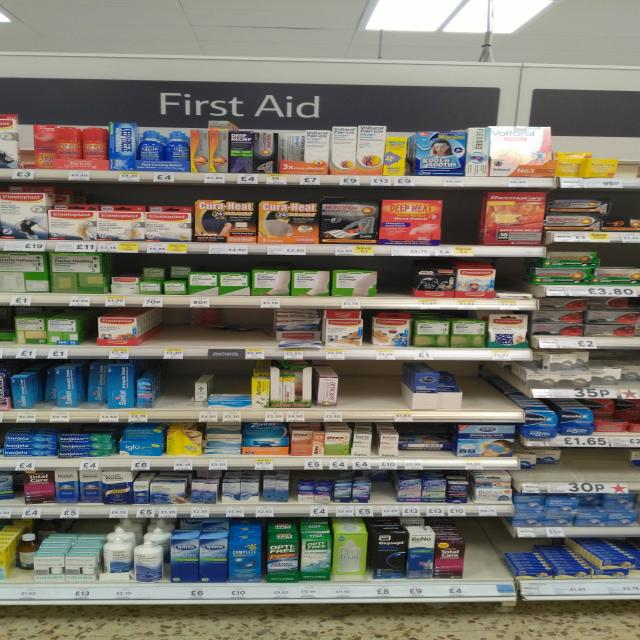unorganised: (274, 309, 323, 346), (371, 314, 412, 347), (402, 434, 456, 458), (540, 348, 592, 372), (517, 447, 562, 473), (547, 198, 610, 216), (82, 361, 105, 410), (14, 532, 37, 573), (580, 157, 618, 180), (36, 362, 55, 406), (593, 400, 640, 417), (589, 297, 636, 312), (279, 133, 303, 162), (167, 264, 190, 282), (192, 381, 207, 408), (579, 494, 602, 509), (143, 266, 165, 280)
